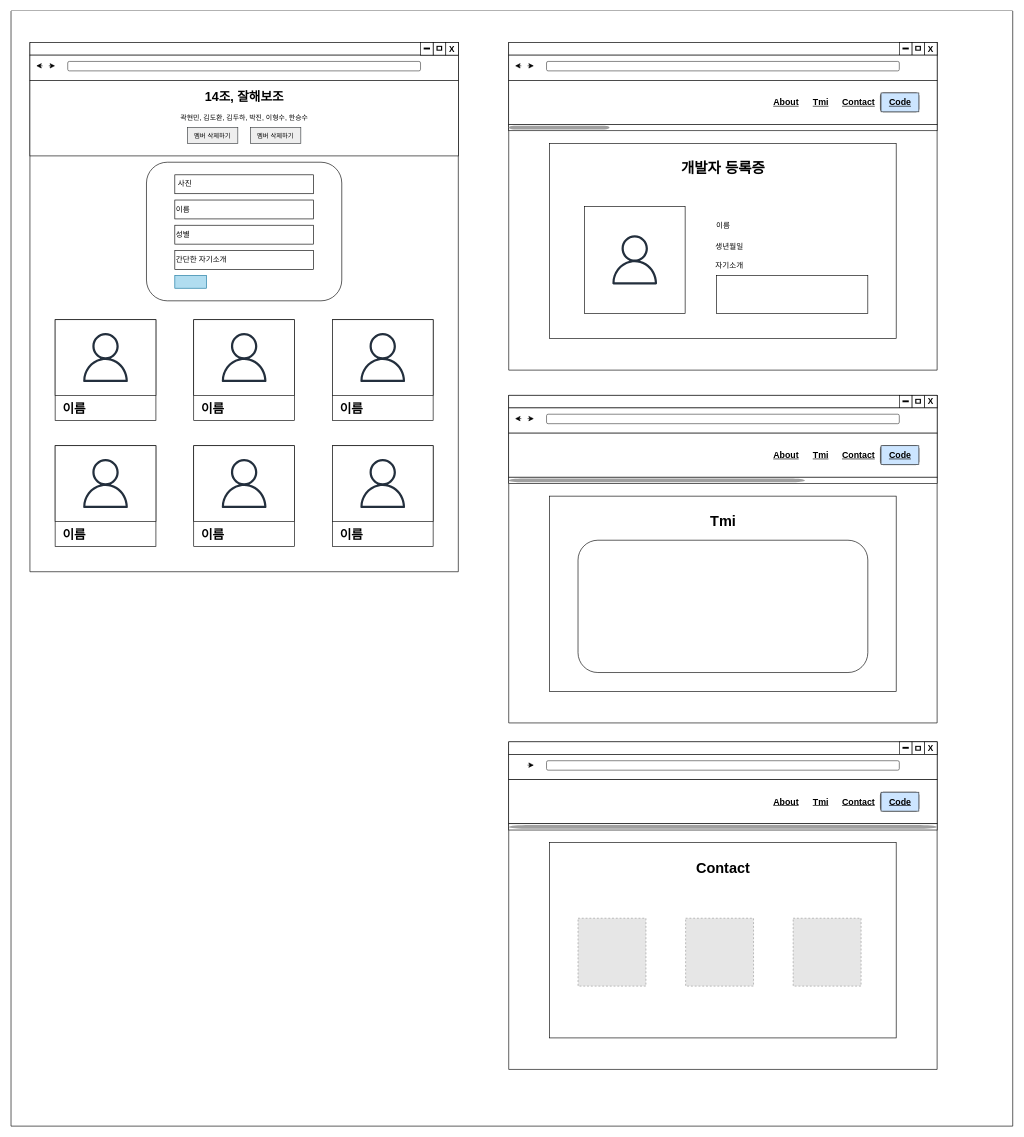
Image size: 1024x1137. Some labels were removed from this diagram. Grey dashed boxes stand in for pictures. Here are the shapes that lost their labels. From the top down, the centre of each, then its label:
[190,281]: 추가하기
[792,294]: 자기소개 내용
[722,606]: 개인 자기소개
